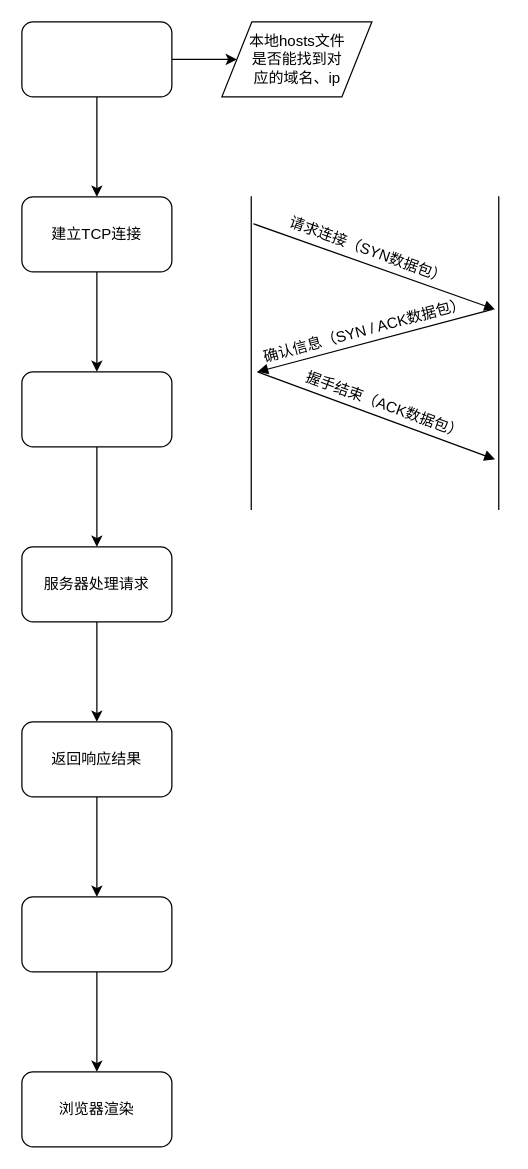
This 528x1169 diagram has some shape labels left out. The shapes that lost their labels are listed below. From the top down, each one's centre as x and y in pixels, then its label:
(96,59): DNS 域名解析
(96,409): 发送HTTP / HTTPS请求
(96,934): 浏览器解析HTML
